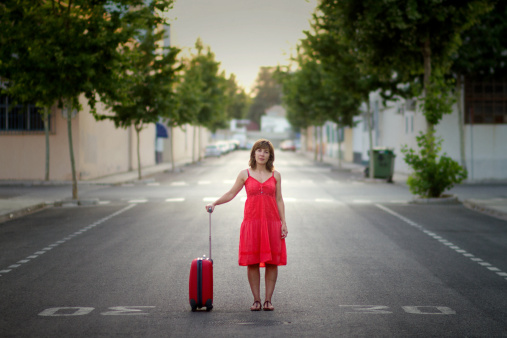em pe: (206, 128, 296, 322)
